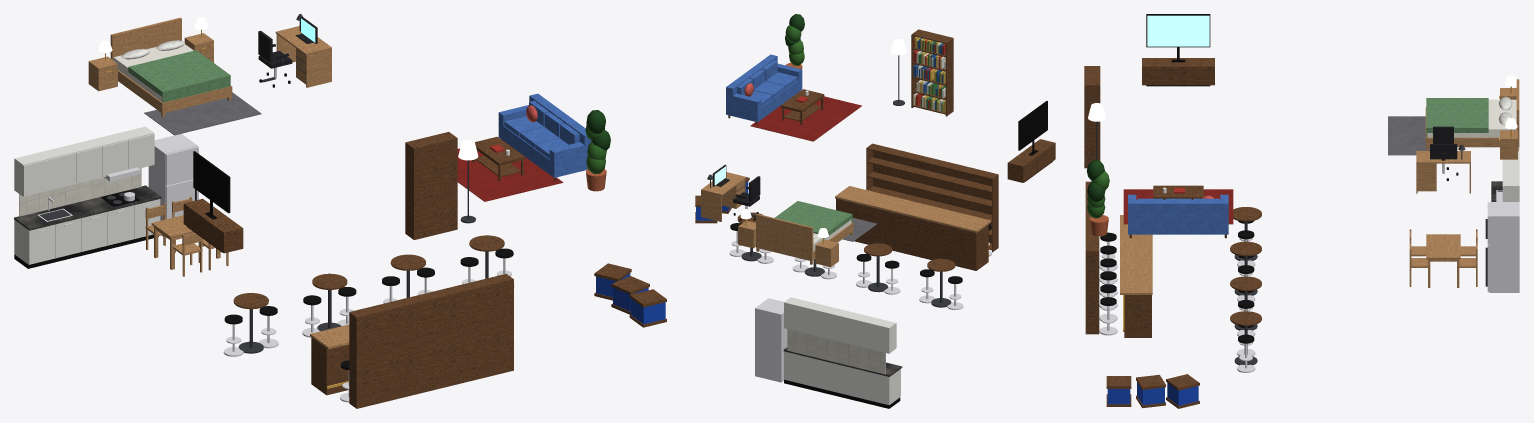
File: i_izakaya_suikei.gltf
3 views of the same model, side by side, from view 1: azimuth 30°, elevation 25°; view 2: azimuth 150°, elevation 25°; view 3: azimuth 270°, elevation 25° (orthographic). The views are drawn at different scales.
Parts seen in each view (by area): view 1: I_izakaya_suikei; view 2: I_izakaya_suikei; view 3: I_izakaya_suikei.
Part boxes in pixels (<box>): I_izakaya_suikei: <box>14,14,666,408</box>; I_izakaya_suikei: <box>695,14,1055,408</box>; I_izakaya_suikei: <box>1084,14,1519,408</box>.
Bounding box in the file's own units: 9.84 × 5.4 × 9.51.
32 materials, 11 textured.
